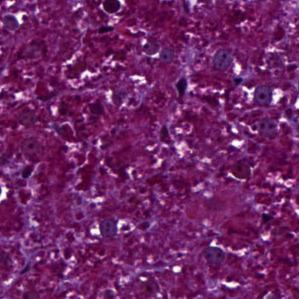inflammation: (241, 79, 287, 111), (83, 214, 138, 239), (200, 243, 229, 275), (96, 0, 131, 20)
